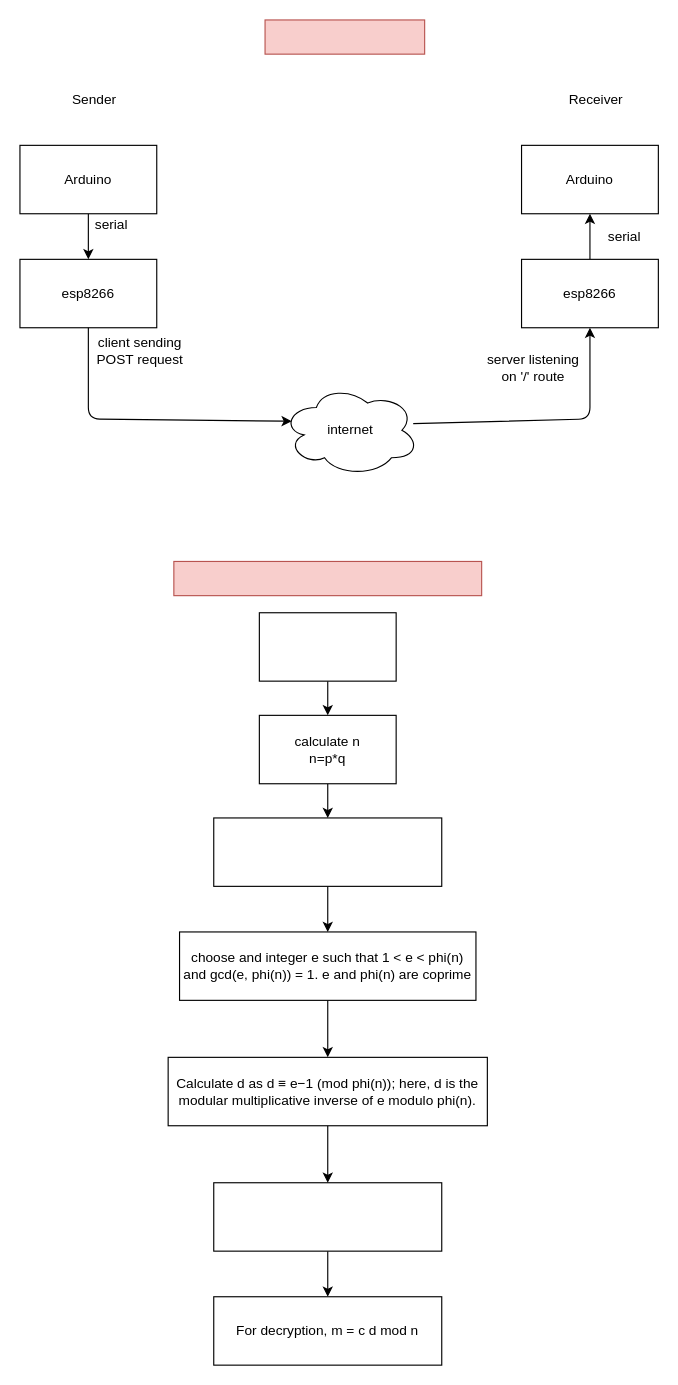
Image size: 678x1385. Some labels were removed from this diagram. The shapes that lost their labels are listed below. From the top down, each one's box as (x1, y1, x2, y2) in pixels, then its label:
(264, 19, 425, 54): Block diagram
(173, 560, 482, 596): RSA algorithm implemenration
(258, 612, 396, 681): taking 2 prime numbers p and q
(213, 817, 442, 886): calculate phi(n) phi(n) = (p-1)(q-1)
(213, 1182, 442, 1251): For encryption, c = me mod n, where m = original message.
